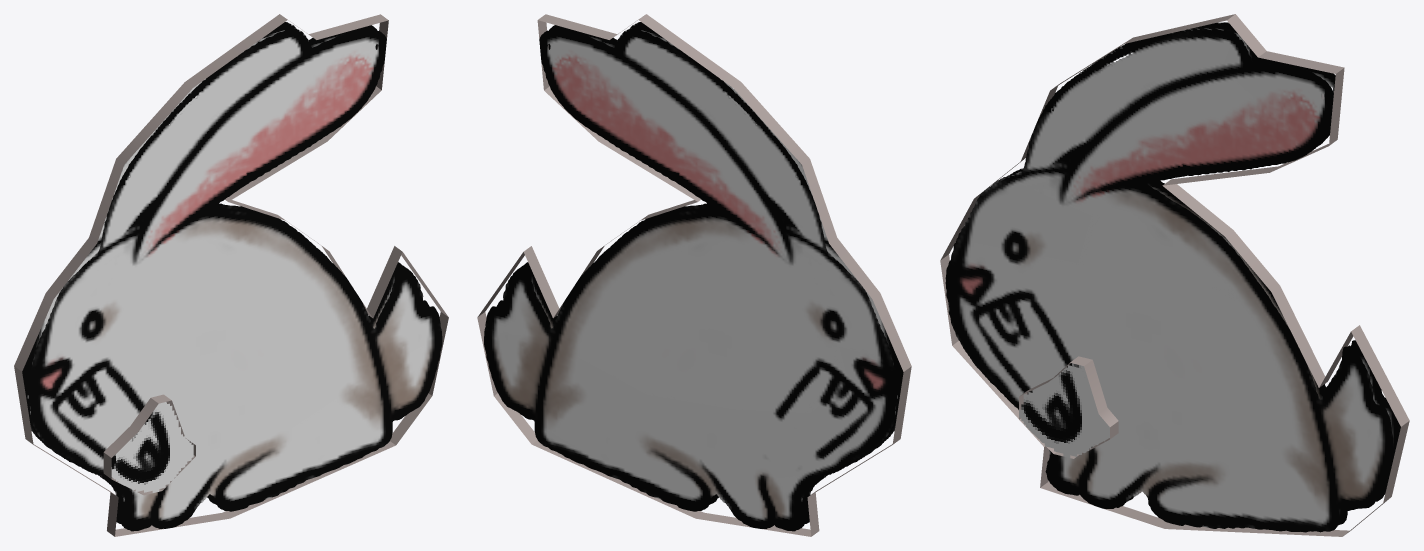
Rendered from RabbitChewing_MDL.fbx.
The picture shows the model from 3 angles, left to right: view 1: azimuth 30°, elevation 25°; view 2: azimuth 150°, elevation 25°; view 3: azimuth 330°, elevation 25°; orthographic projection. The views are drawn at different scales.
Visible parts, largest first — view 1: RabbitChewing_MDL, RabbirJaw_MDL; view 2: RabbitChewing_MDL; view 3: RabbitChewing_MDL, RabbirJaw_MDL.
Part boxes in pixels (x1=…): RabbitChewing_MDL: x1=14, y1=14, x2=448, y2=536; RabbirJaw_MDL: x1=103, y1=394, x2=195, y2=495; RabbitChewing_MDL: x1=477, y1=14, x2=911, y2=536; RabbitChewing_MDL: x1=940, y1=14, x2=1409, y2=536; RabbirJaw_MDL: x1=1019, y1=356, x2=1118, y2=458.
Size of the model in its own units: 0.6052 by 0.6572 by 0.0405.
